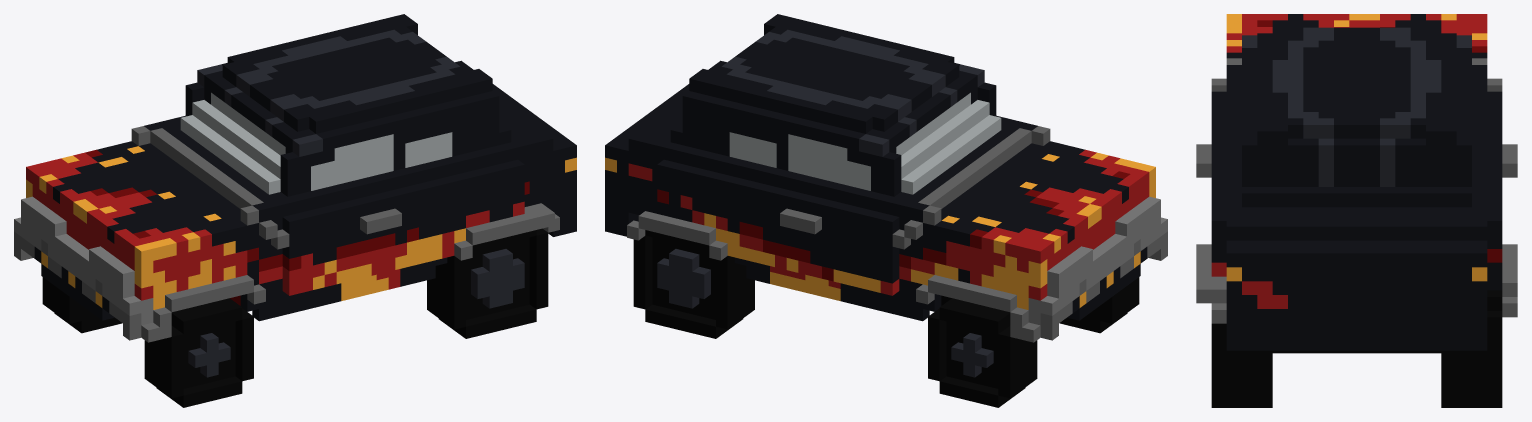
The model's file is Car_001.obj.
3 renders of one model, left to right at view 1: azimuth 30°, elevation 25°; view 2: azimuth 150°, elevation 25°; view 3: azimuth 270°, elevation 25°, orthographic. The views are drawn at different scales.
Size of the model in its own units: 3.8 by 1.9 by 2.1.
1 material, 1 textured.
